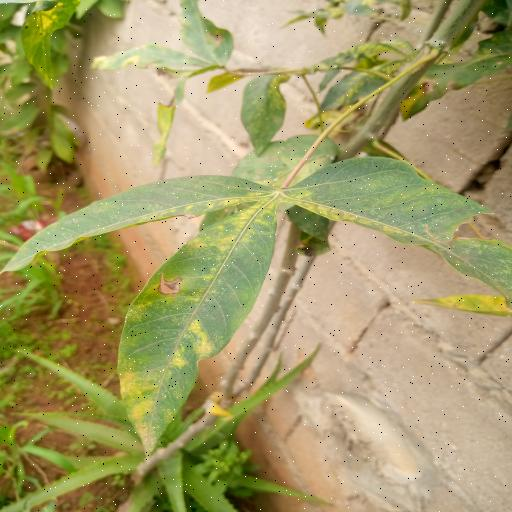Cassava_Mosaic: (17, 130, 512, 452)
